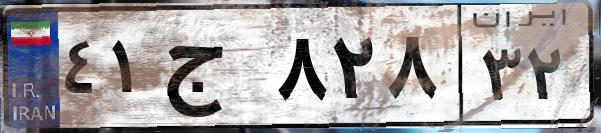1: (110, 28, 158, 98)
2: (330, 28, 385, 110), (525, 38, 570, 115)
3: (475, 38, 525, 113)
4: (57, 26, 110, 100)
8: (270, 28, 330, 110), (385, 28, 445, 110)
ج: (158, 20, 270, 120)
